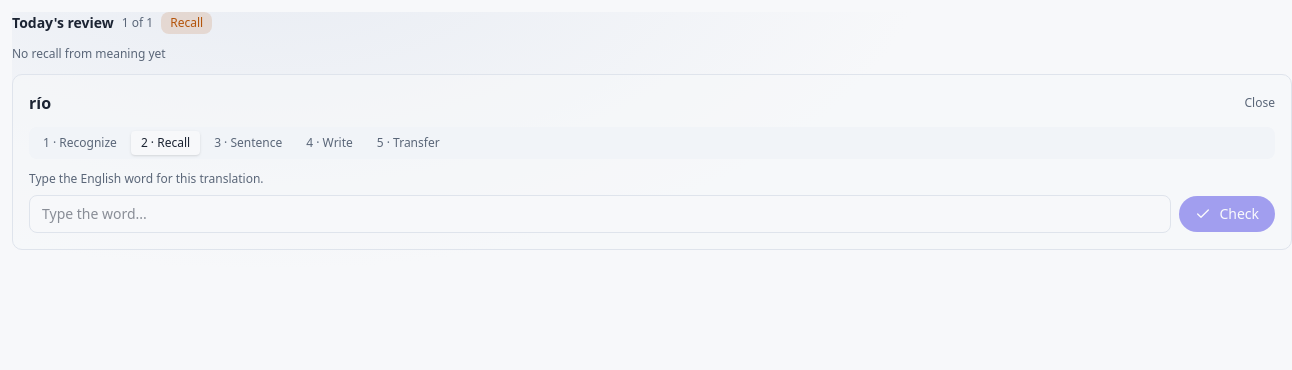
Test case: ReviewToday · peldaños reconductivos y accesibilidad (V3.85.1) › un ítem servido como recall avanza al dar veredicto (C1)
In the field labelled "Type the word": (600, 214) [29, 195, 1171, 233], type "river"
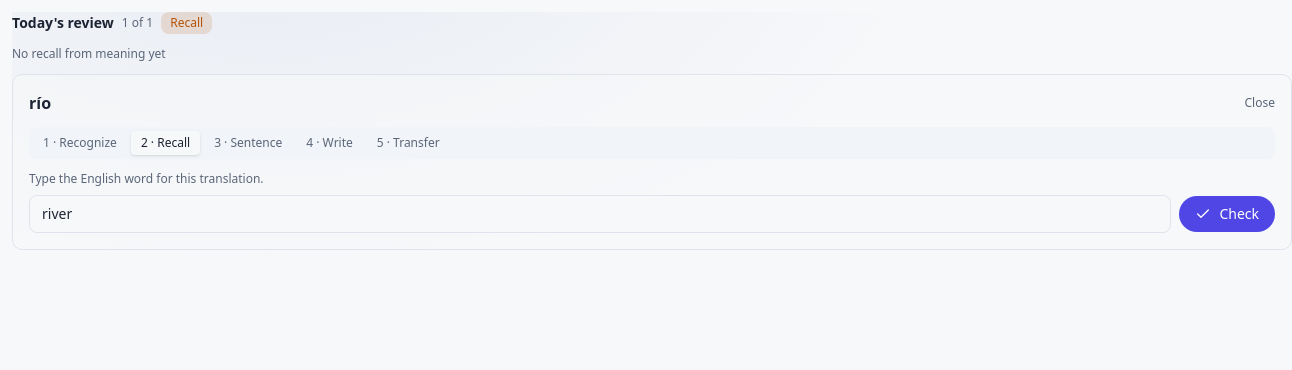
Click the button "Check": (1227, 214) [1179, 196, 1275, 232]
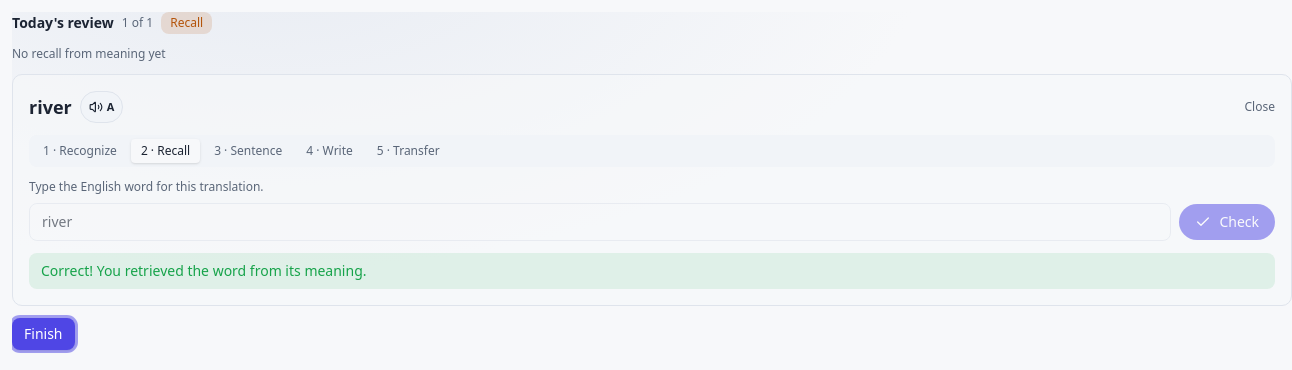
Result: the button "Finish" is shown at [12, 318, 74, 350]
